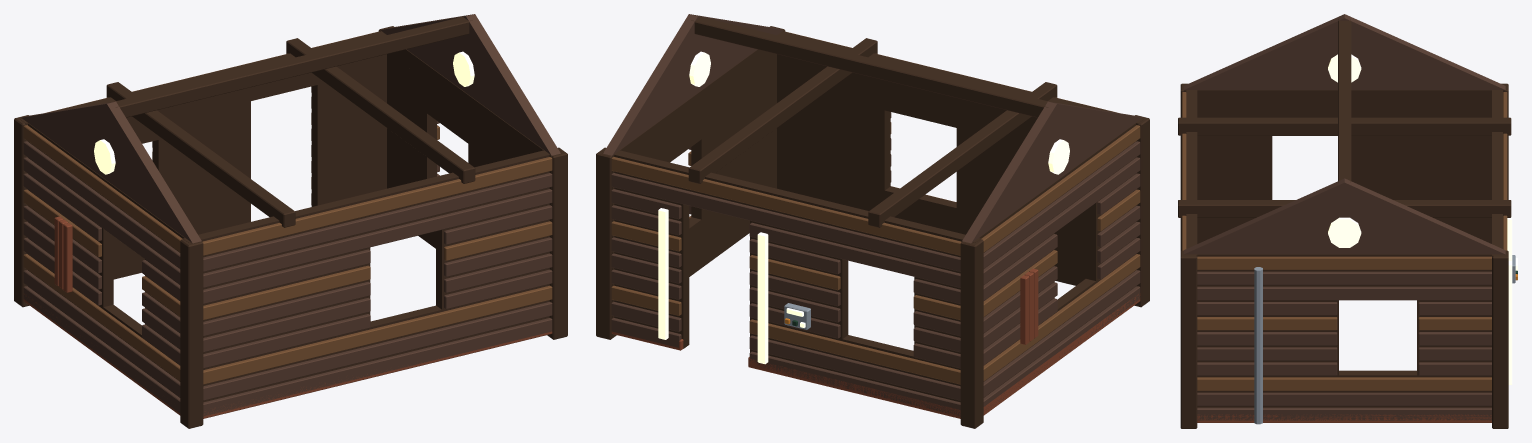
The model's file is Hut_Shop_Walls_0_-2.fbx.
The picture shows the model from 3 angles, left to right: view 1: azimuth 30°, elevation 25°; view 2: azimuth 150°, elevation 25°; view 3: azimuth 270°, elevation 25°; orthographic projection. The views are drawn at different scales.
Parts seen in each view (by area): view 1: Hut_Shop_Walls_0_-2; view 2: Hut_Shop_Walls_0_-2; view 3: Hut_Shop_Walls_0_-2.
Part boxes in pixels (x1,y1,x2,y2): Hut_Shop_Walls_0_-2: [14, 14, 567, 428]; Hut_Shop_Walls_0_-2: [596, 14, 1149, 428]; Hut_Shop_Walls_0_-2: [1178, 14, 1517, 428].
Bounding box in the file's own units: 765 × 485 × 612.
